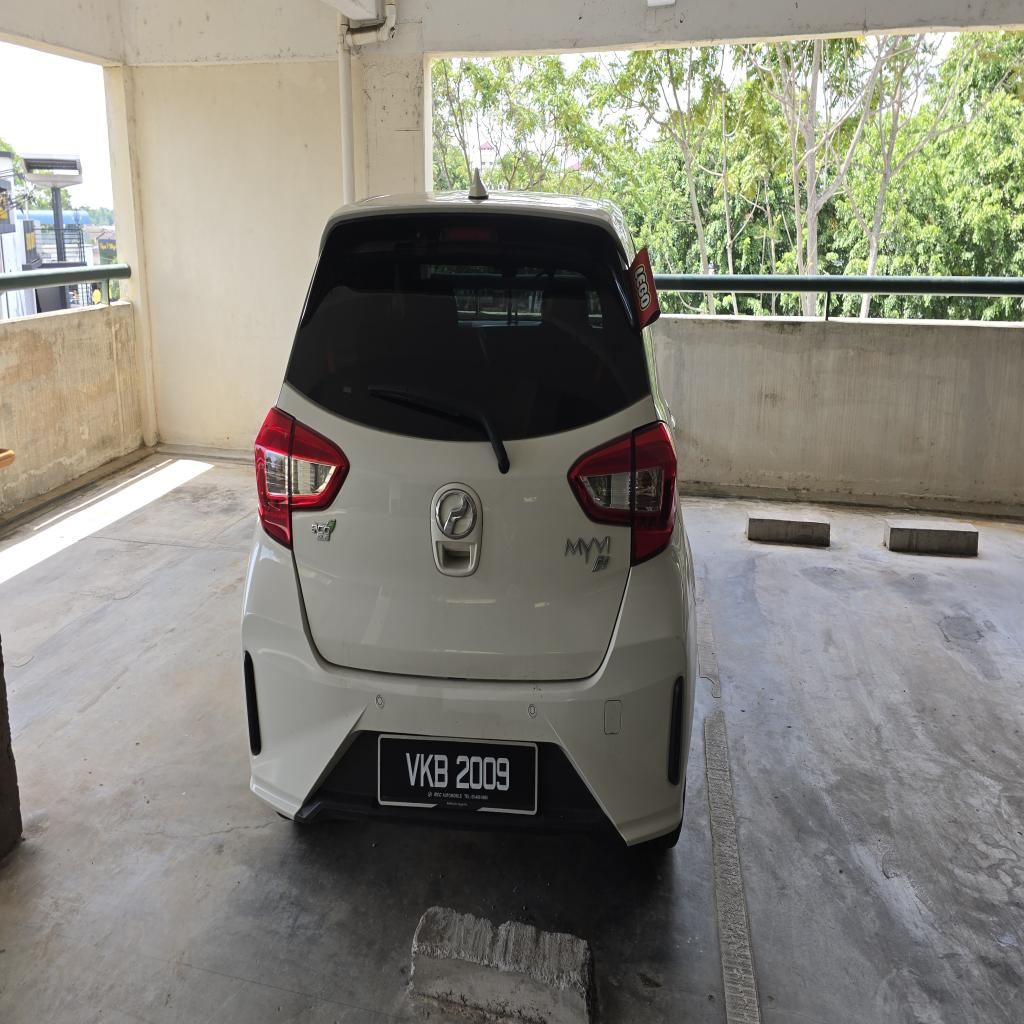car: (242, 193, 697, 844)
car plate: (378, 735, 537, 814)
